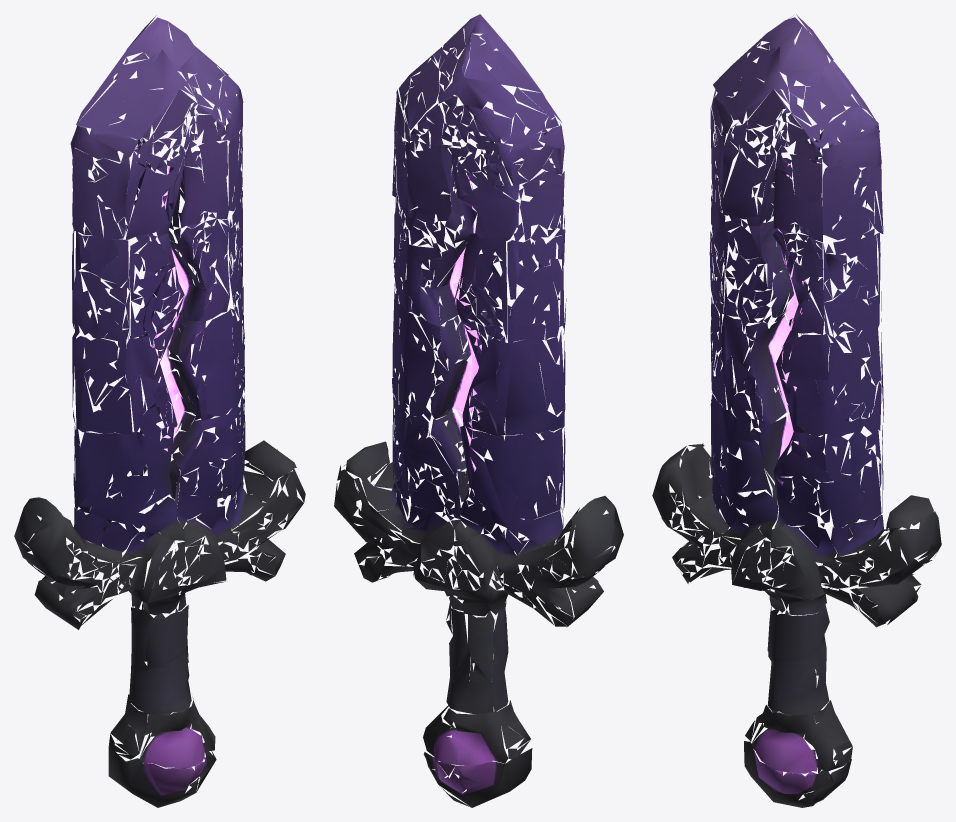
Rendered from Arm_archon_verdict-BkeD9KZy.glb.
3 views of the same model, side by side, from view 1: azimuth 30°, elevation 25°; view 2: azimuth 150°, elevation 25°; view 3: azimuth 330°, elevation 25° (orthographic).
Visible parts, largest first — view 1: Arm_archon_verdict; view 2: Arm_archon_verdict; view 3: Arm_archon_verdict.
Boxes of the visible parts, x1,y1,x2,y2 form: Arm_archon_verdict: (14,15,305,807); Arm_archon_verdict: (334,14,623,807); Arm_archon_verdict: (652,14,941,807).
Size of the model in its own units: 0.8126 by 2.31 by 0.3004.
Materials: 1 (1 with a texture image).
